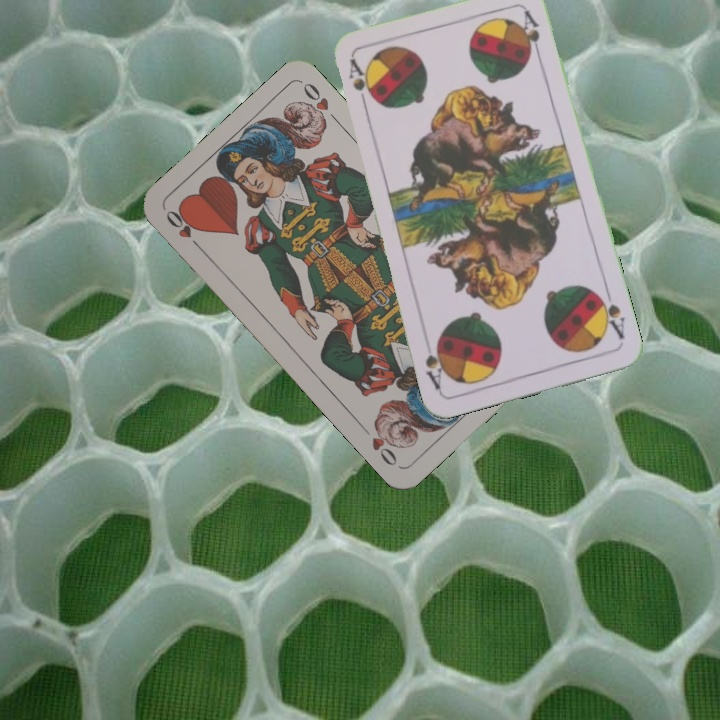HO: (161, 204, 206, 254)
SA: (593, 286, 628, 341), (345, 55, 375, 113)
